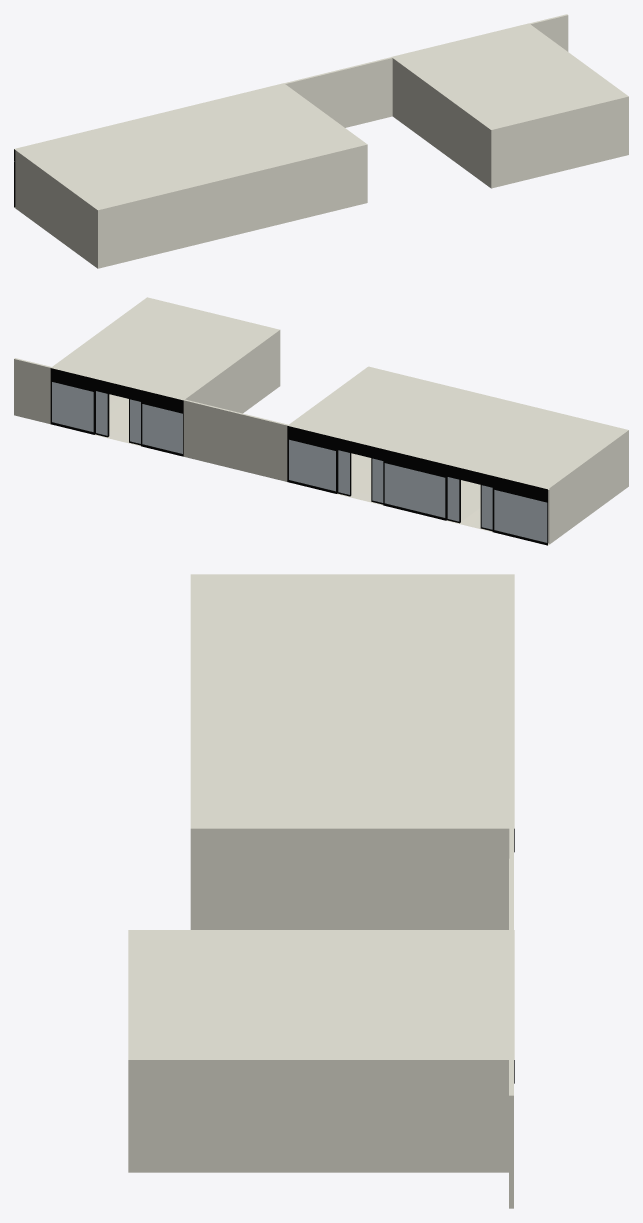
The model's file is Shop 1.FBX.
The picture shows the model from 3 angles, top to bottom: view 1: azimuth 30°, elevation 25°; view 2: azimuth 150°, elevation 25°; view 3: azimuth 270°, elevation 25°; orthographic projection. The views are drawn at different scales.
Parts seen in each view (by area): view 1: Shop 1; view 2: Shop 1; view 3: Shop 1.
Boxes of the visible parts, <box> form: Shop 1: <box>14,14,628,268</box>; Shop 1: <box>14,297,628,545</box>; Shop 1: <box>128,574,514,1208</box>.
Bounding box in the file's own units: 1654 × 167 × 518.
1 material, 1 textured.
